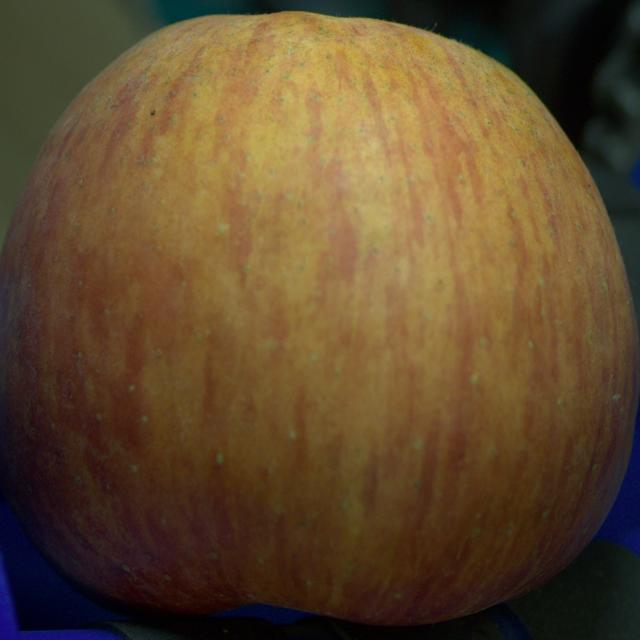apple: (0, 12, 639, 626)
